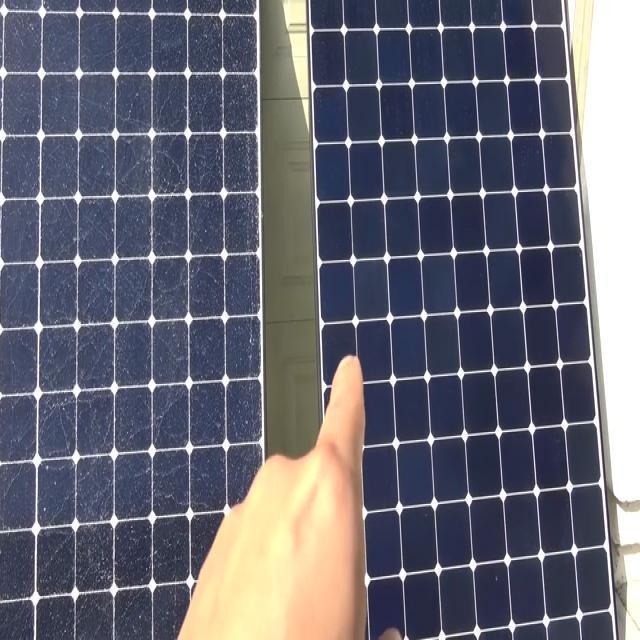Normal Solar Panel: (312, 1, 616, 639)
